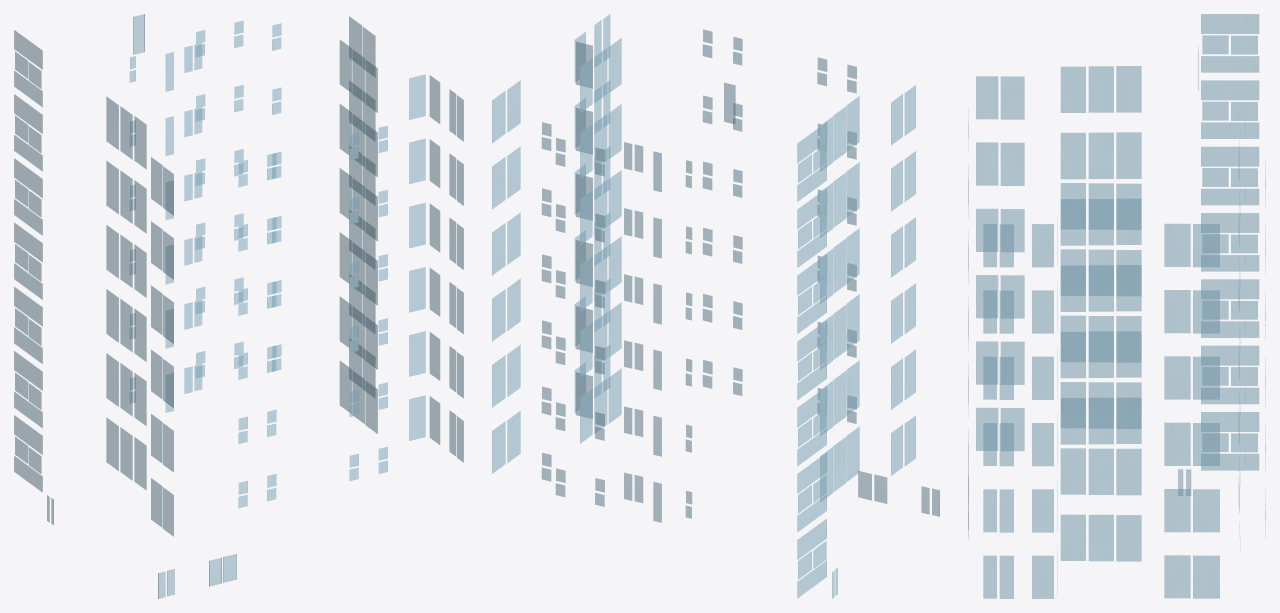
The model's file is Cristales.obj.
3 views of the same model, side by side, from view 1: azimuth 30°, elevation 25°; view 2: azimuth 150°, elevation 25°; view 3: azimuth 270°, elevation 25° (orthographic). The views are drawn at different scales.
Parts seen in each view (by area): view 1: Cristales1; view 2: Cristales1; view 3: Cristales1.
Part boxes in pixels (box(x1,y1,x2,y2)): Cristales1: box(14, 14, 463, 598); Cristales1: box(492, 14, 939, 598); Cristales1: box(968, 14, 1265, 598).
Size of the model in its own units: 8.83 by 12.76 by 6.95.
